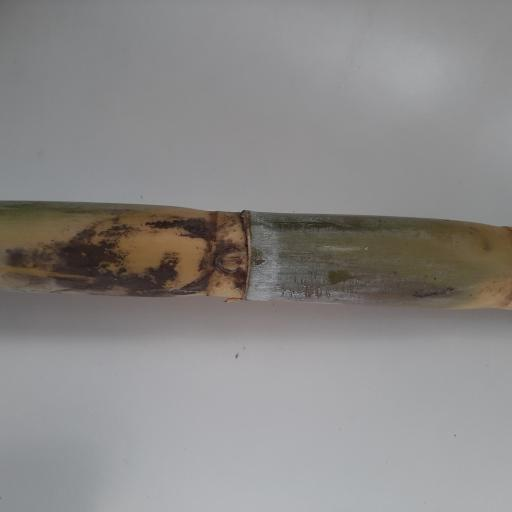Bud: (213, 245, 246, 274)
